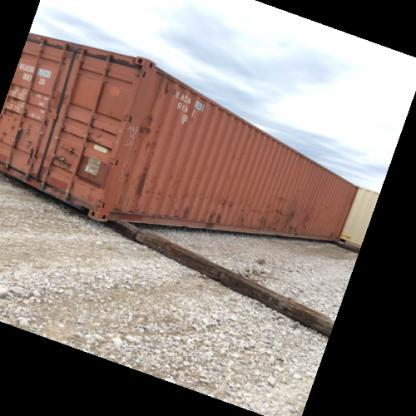Damage: (125, 110, 158, 177), (133, 142, 158, 206), (263, 204, 304, 234), (29, 158, 50, 196), (206, 202, 229, 228), (173, 202, 197, 224)
